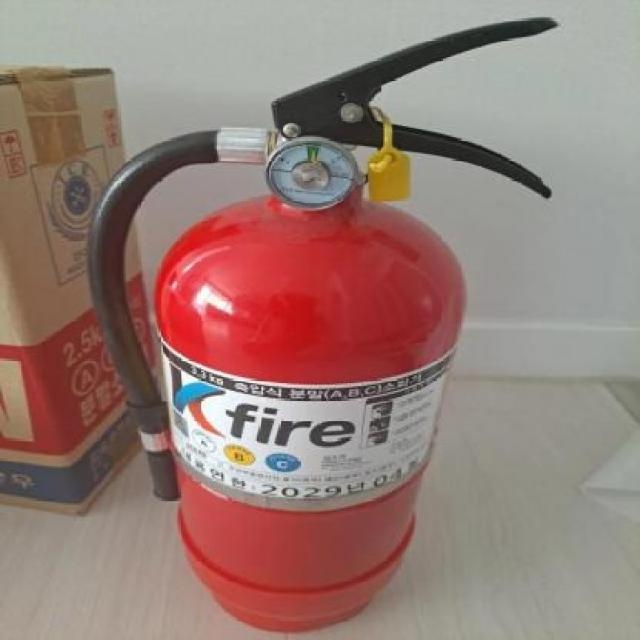fire extinguisher: (85, 16, 560, 635)
